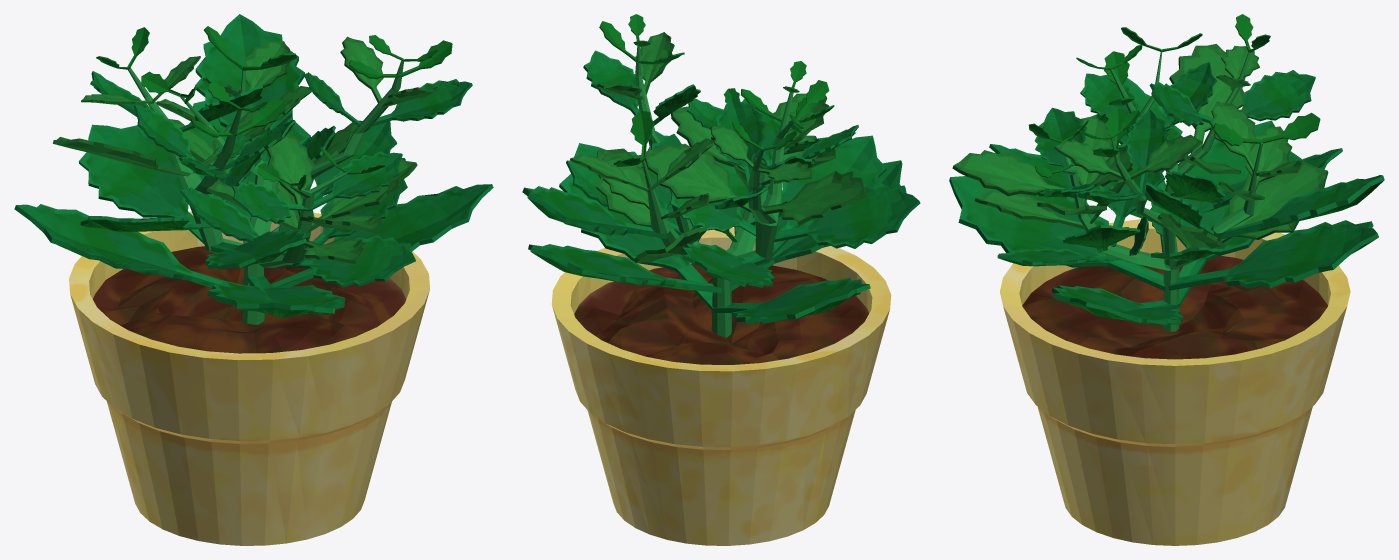
The model's file is Kalanchoe_Good_End.glb.
3 renders of one model, left to right at view 1: azimuth 30°, elevation 25°; view 2: azimuth 150°, elevation 25°; view 3: azimuth 270°, elevation 25°, orthographic. The views are drawn at different scales.
Visible parts, largest first — view 1: Cylinder, Pot; view 2: Pot, Cylinder; view 3: Pot, Cylinder.
Boxes of the visible parts, x1,y1,x2,y2 form: Cylinder: [14, 14, 493, 324]; Pot: [69, 211, 429, 545]; Pot: [551, 228, 891, 545]; Cylinder: [522, 14, 920, 337]; Pot: [1000, 219, 1350, 545]; Cylinder: [949, 14, 1384, 331].
Size of the model in its own units: 2.51 by 2.81 by 2.54.
5 materials, 4 textured.
